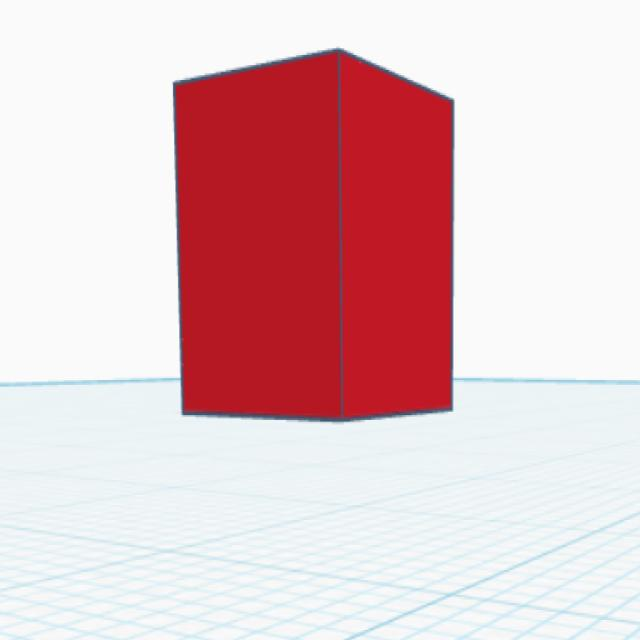cube: (167, 46, 460, 428)
